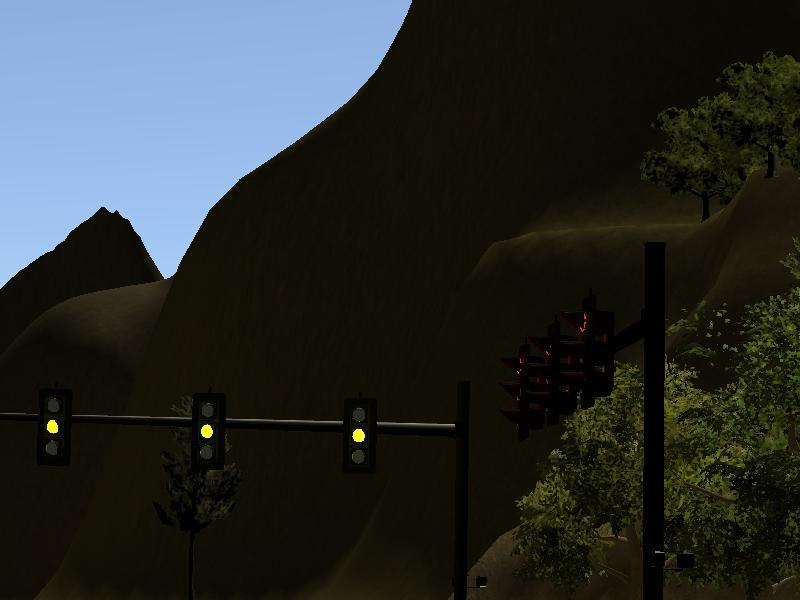Yellow: (37, 386, 70, 468), (193, 392, 225, 471), (344, 398, 377, 472)
